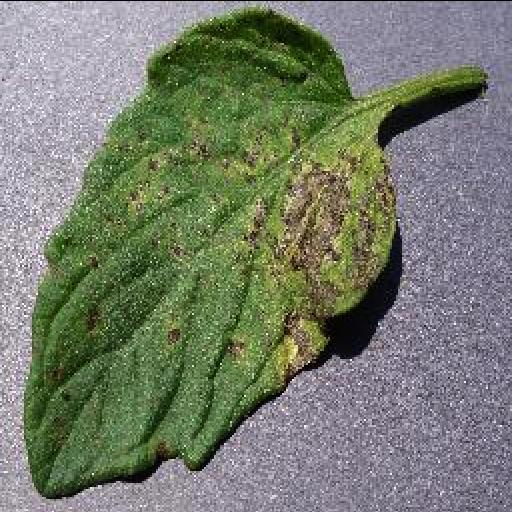disease_tomato: (22, 8, 404, 498)
